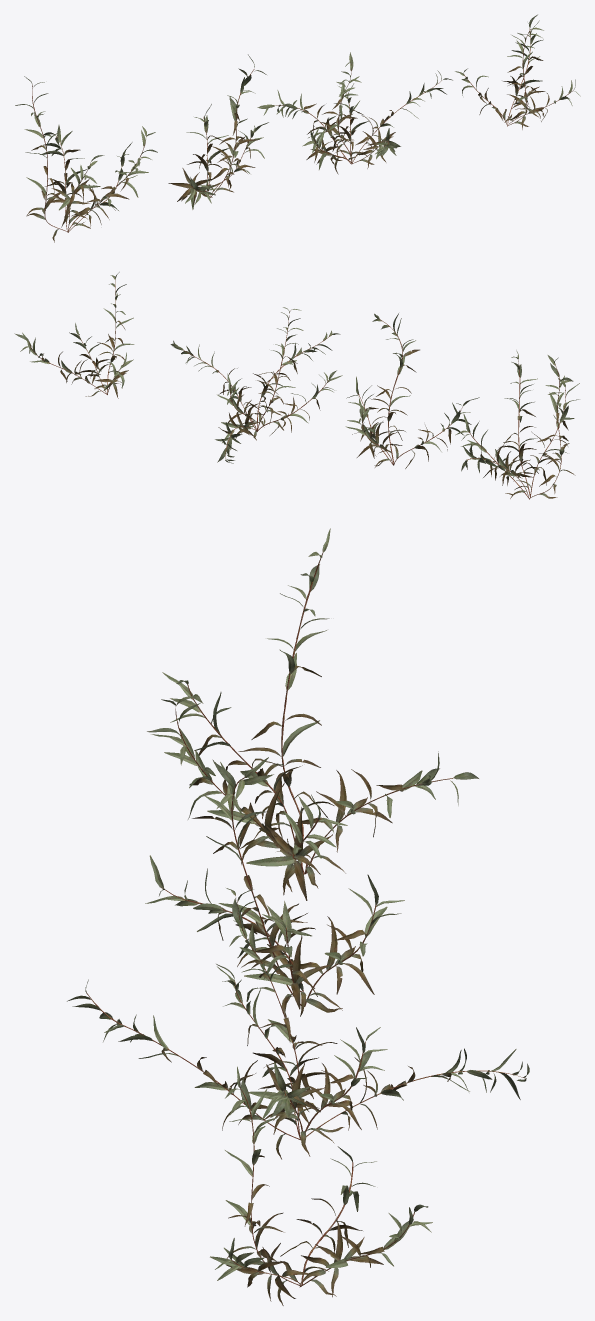
File: shrub_02.glb
3 renders of one model, top to bottom at view 1: azimuth 30°, elevation 25°; view 2: azimuth 150°, elevation 25°; view 3: azimuth 270°, elevation 25°, orthographic. The views are drawn at different scales.
Parts seen in each view (by area): view 1: shrub_02_c, shrub_02_a, shrub_02_b, shrub_02_d; view 2: shrub_02_a, shrub_02_c, shrub_02_b, shrub_02_d; view 3: shrub_02_a, shrub_02_c, shrub_02_b, shrub_02_d.
Boxes of the visible parts, bbox=[...] form: shrub_02_c: bbox=[257, 52, 452, 174]; shrub_02_a: bbox=[15, 76, 157, 242]; shrub_02_b: bbox=[168, 54, 268, 209]; shrub_02_d: bbox=[455, 14, 580, 129]; shrub_02_a: bbox=[455, 350, 579, 499]; shrub_02_c: bbox=[170, 307, 342, 463]; shrub_02_b: bbox=[345, 313, 479, 468]; shrub_02_d: bbox=[14, 272, 134, 398]; shrub_02_a: bbox=[147, 528, 478, 900]; shrub_02_c: bbox=[67, 888, 529, 1159]; shrub_02_b: bbox=[145, 757, 404, 1018]; shrub_02_d: bbox=[210, 1066, 432, 1305].
Size of the model in its own units: 6.05 by 1.7 by 2.29.
1 material, 1 textured.
